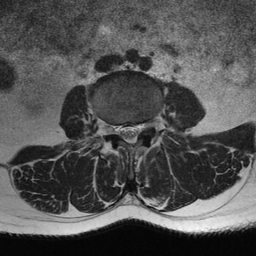CCS_normal: (125, 114, 133, 152)
LFS_normal: (140, 114, 149, 139)
LLS_normal: (133, 115, 140, 146)
RFS_normal: (107, 113, 115, 141)
RLS_normal: (116, 114, 125, 144)
